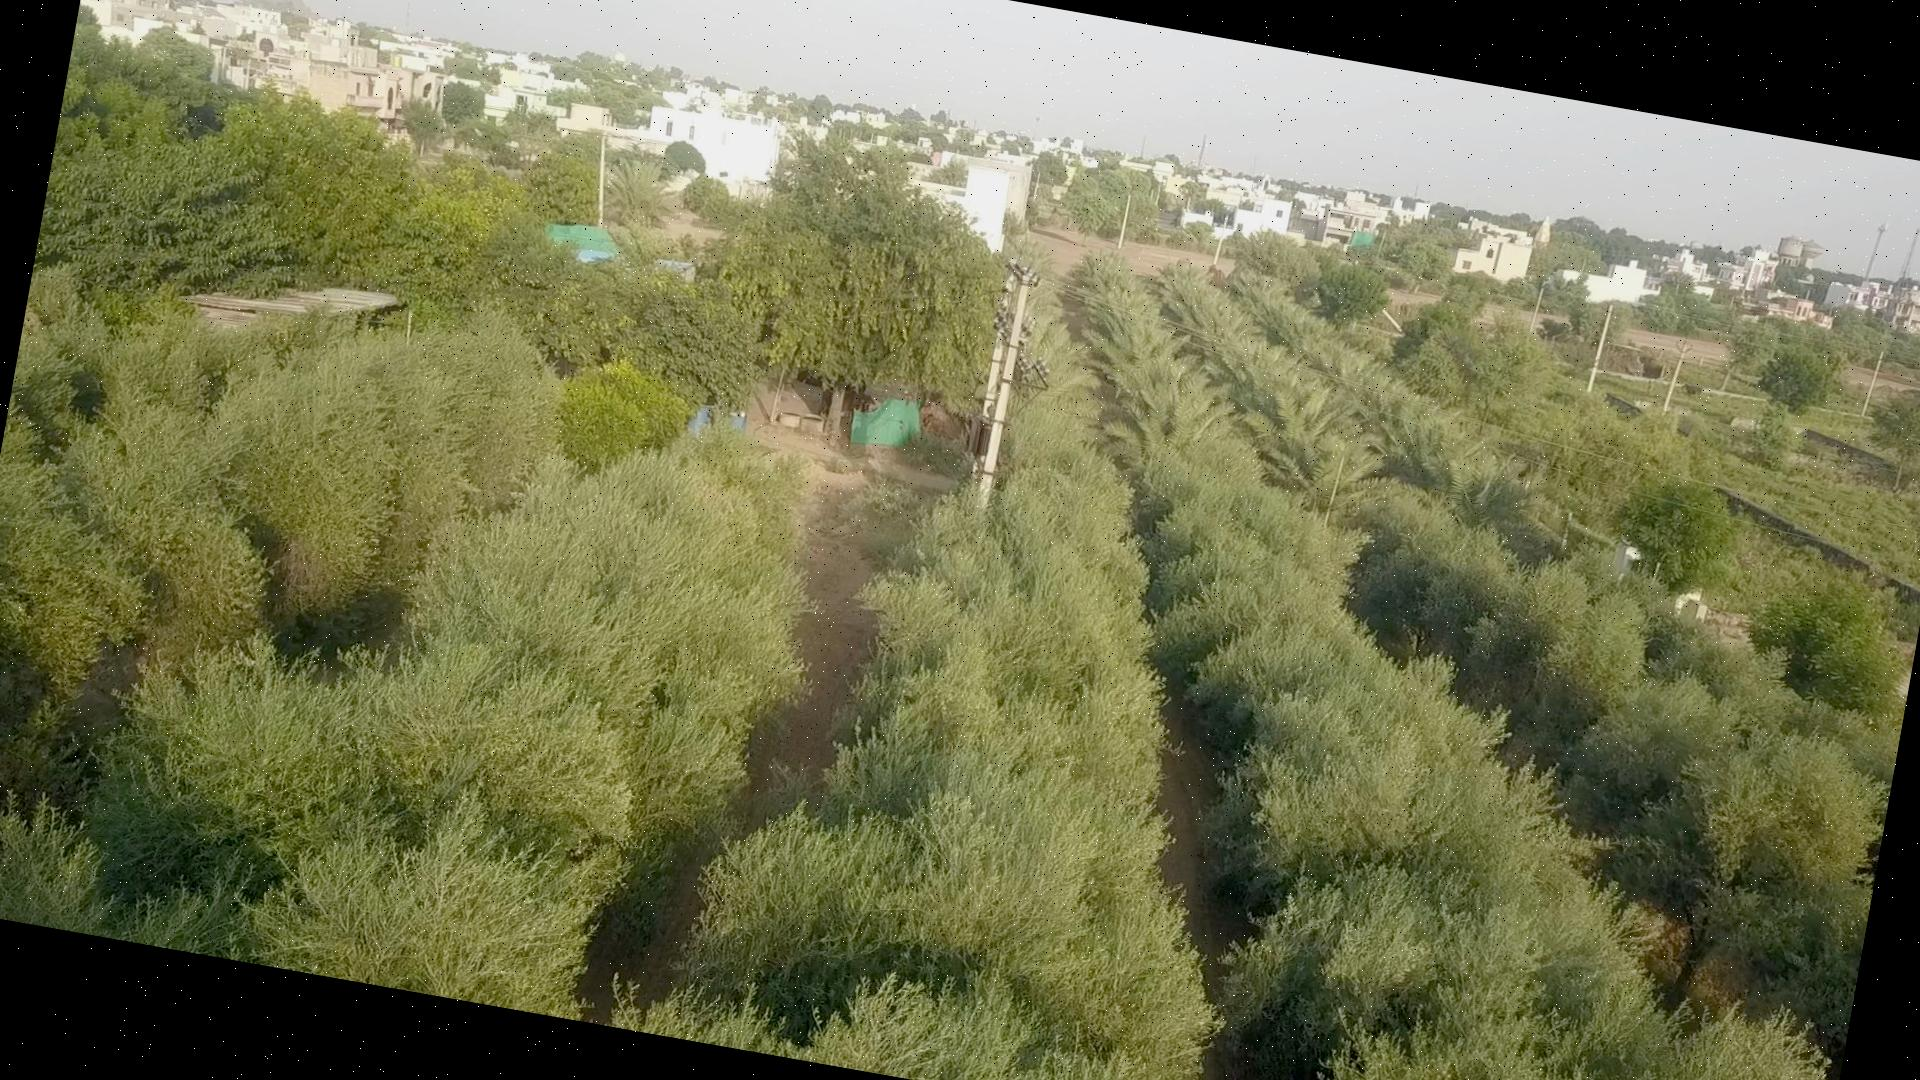canopy: (1129, 438, 1824, 1080), (83, 440, 800, 1015), (613, 406, 1213, 1080), (1346, 496, 1899, 1051), (0, 270, 563, 793)
road: (579, 477, 909, 1023), (1156, 687, 1316, 1080)
